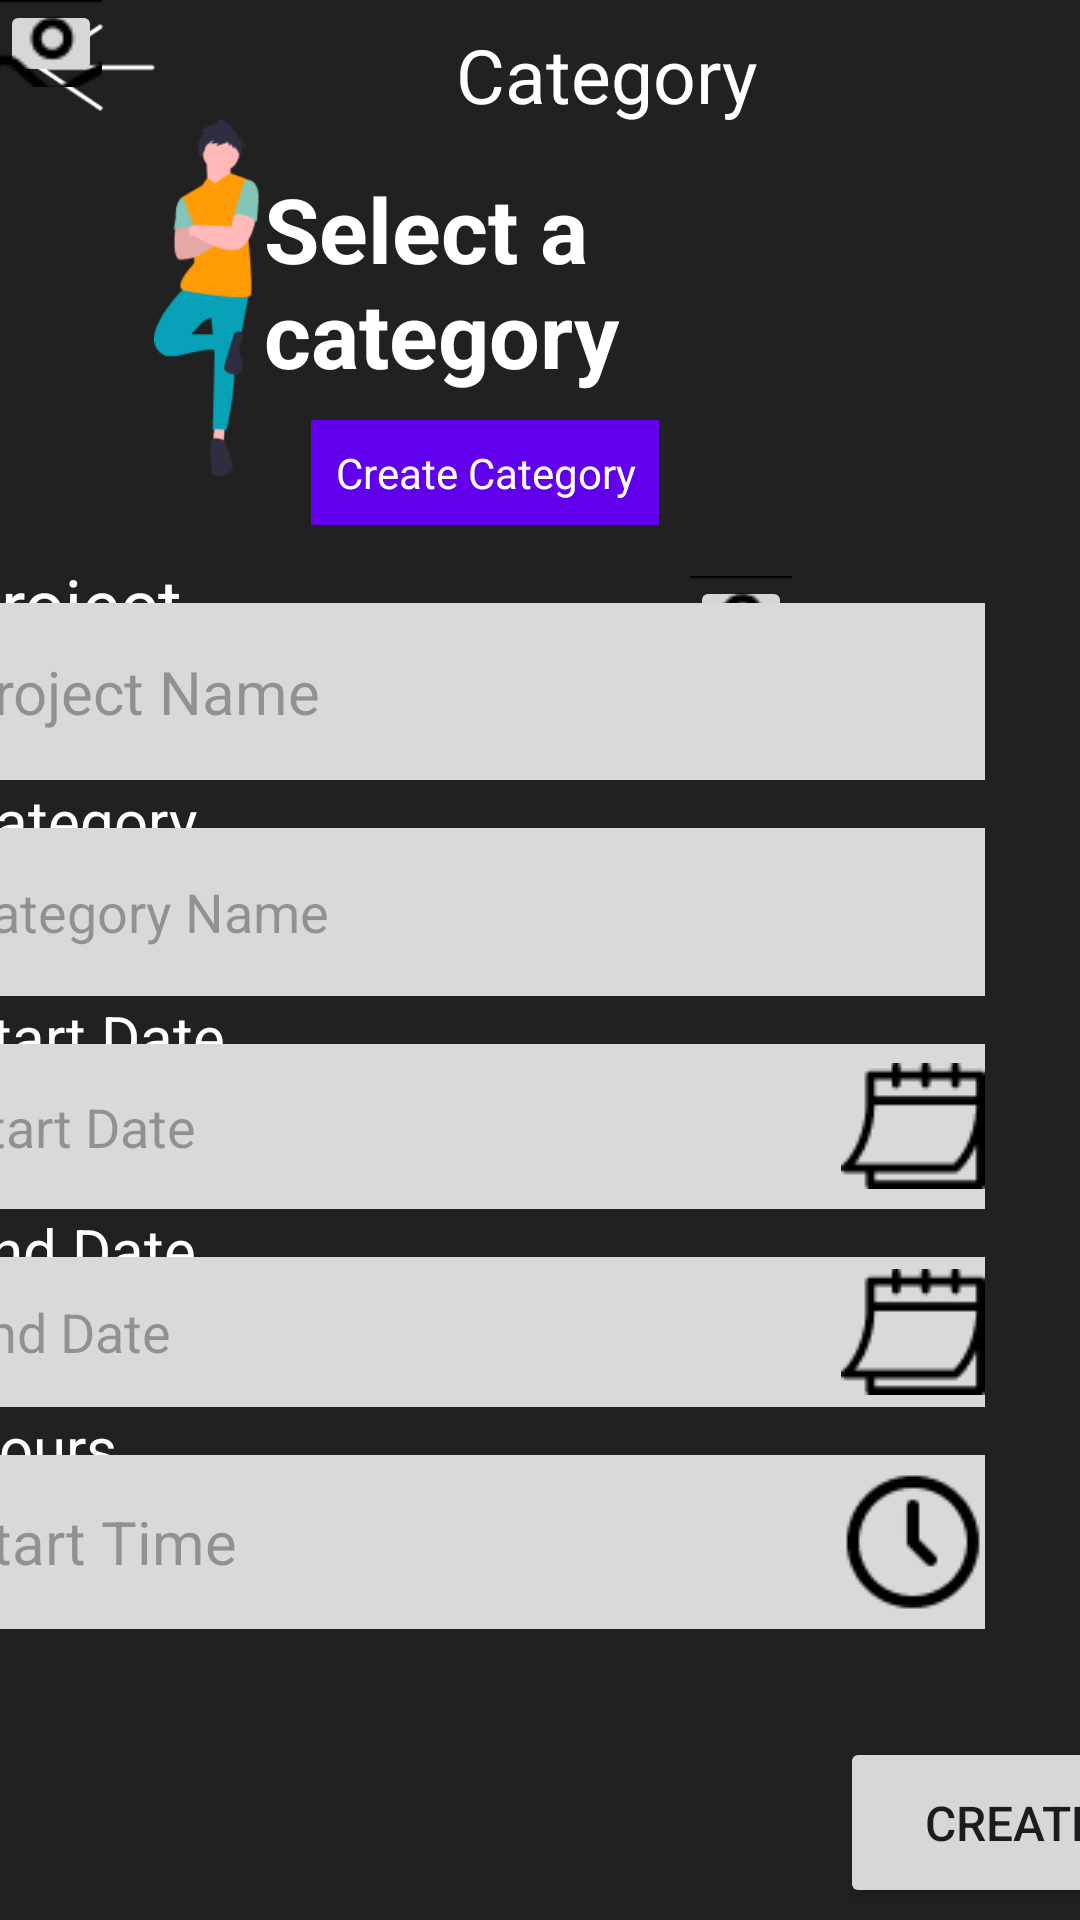

Icons on this 1080px x 1920px Android screen, each with the point to tap as (x,y):
person standing: (206,297)
